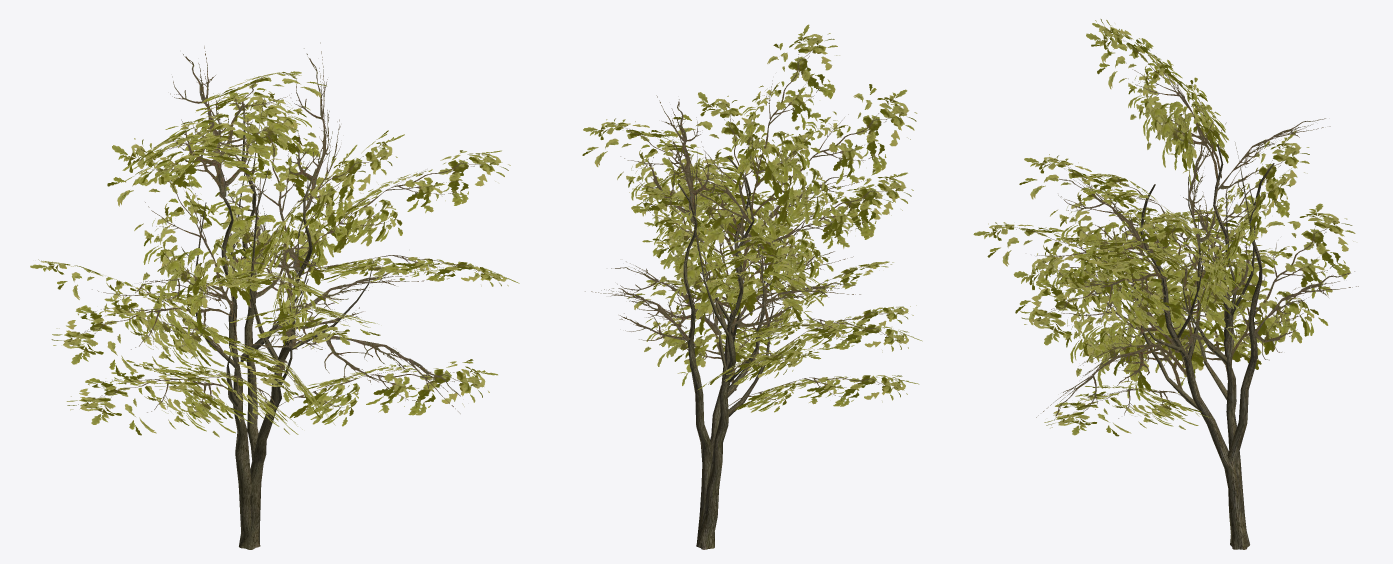
3 renders of one model, left to right at view 1: azimuth 30°, elevation 25°; view 2: azimuth 150°, elevation 25°; view 3: azimuth 270°, elevation 25°, orthographic. The views are drawn at different scales.
Visible parts, largest first — view 1: Treesmall; view 2: Treesmall; view 3: Treesmall.
Boxes of the visible parts, left/top/right/bottom form: Treesmall: left=30, top=42, right=519, bottom=549; Treesmall: left=582, top=24, right=922, bottom=549; Treesmall: left=973, top=19, right=1358, bottom=549.
Bounding box in the file's own units: 5.79 × 7 × 5.22.
Materials: 1 (1 with a texture image).
